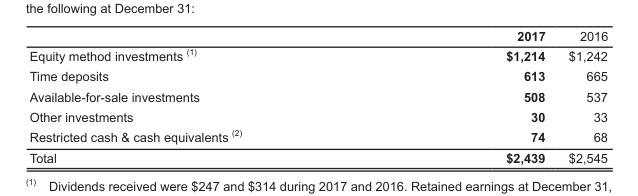table: (28, 28, 607, 164)
table column: (28, 28, 373, 164), (373, 28, 556, 164), (556, 28, 607, 164)
table column header: (28, 28, 607, 44)
table row: (28, 125, 607, 147), (28, 44, 607, 65), (28, 85, 607, 106), (28, 65, 607, 85), (28, 106, 607, 125), (28, 147, 607, 164), (28, 28, 607, 44)
